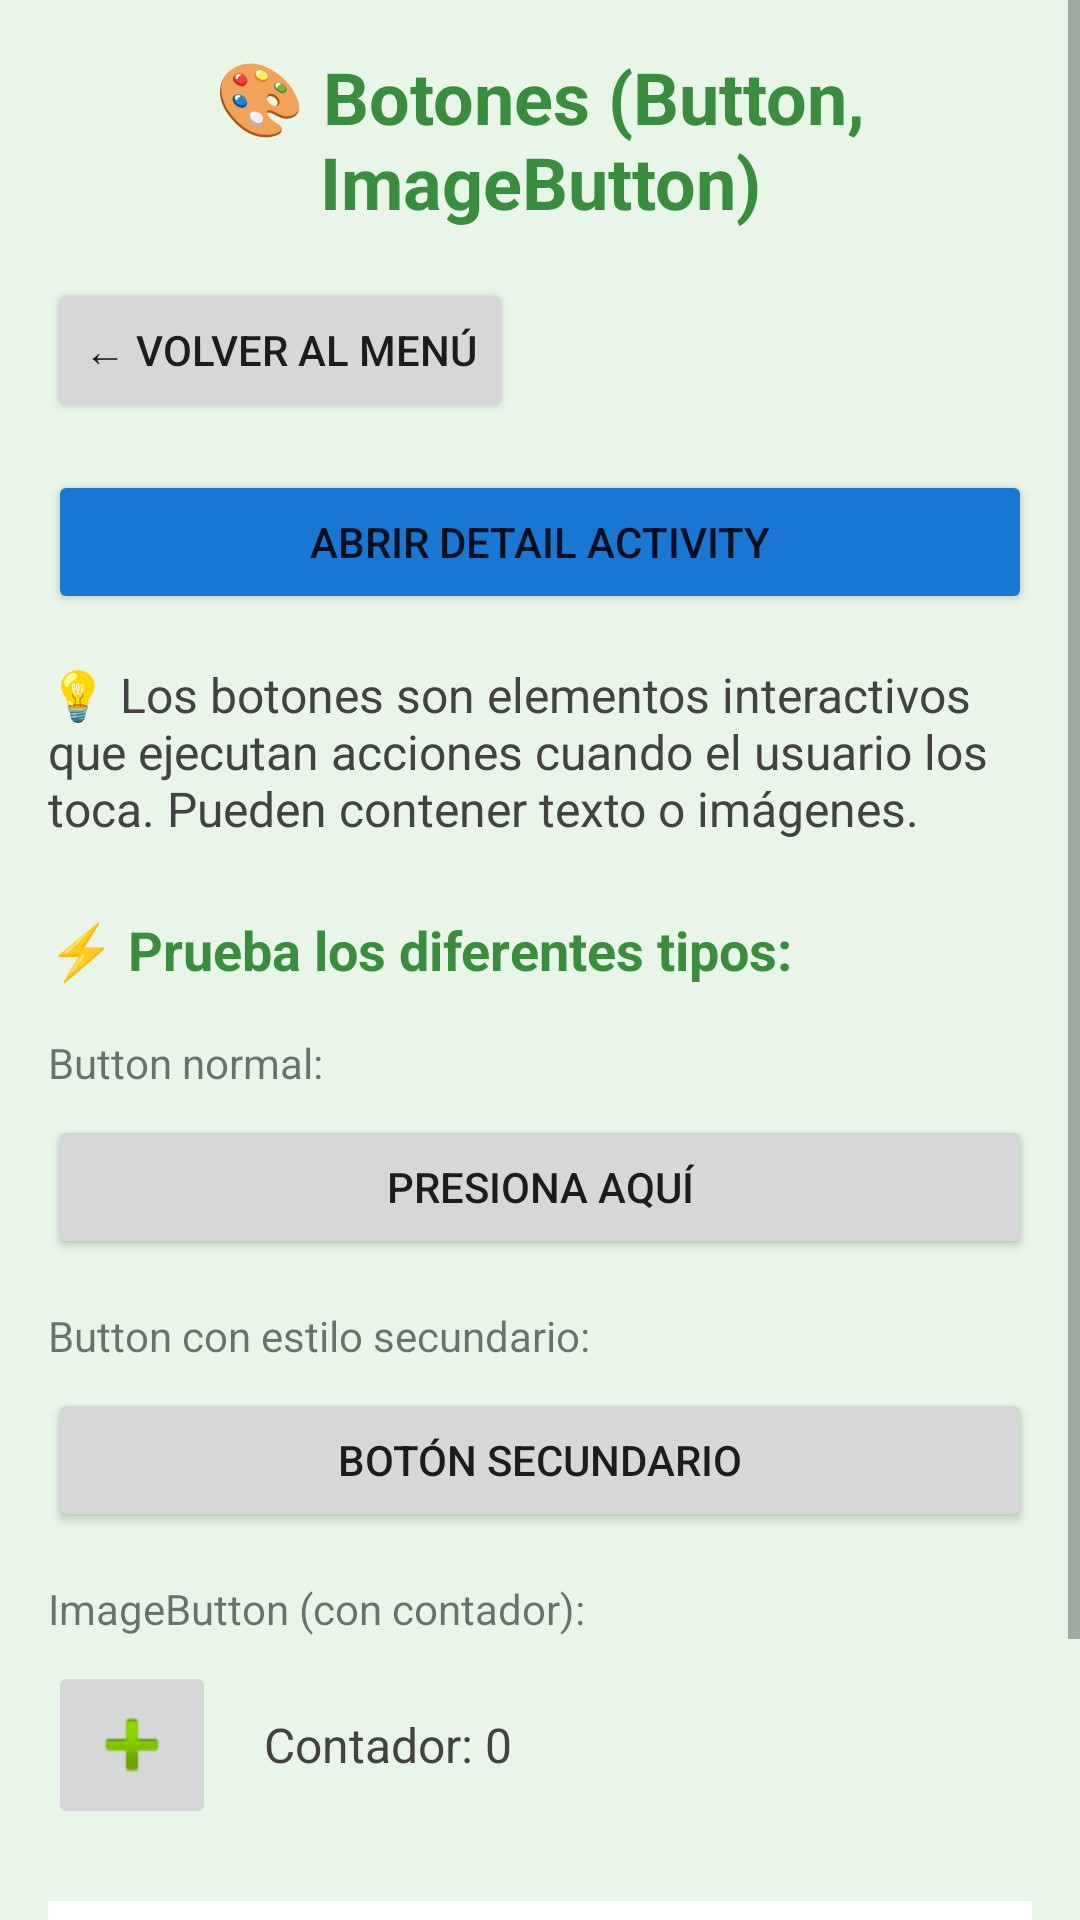

Where icons sit on this 1080px×1920px app screen, as [x1,y1,x2,y2]:
Botón para incrementar contador: [60,1679,204,1811]
